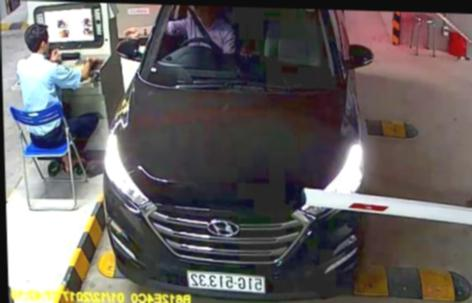License_Plate: (187, 268, 269, 293)
